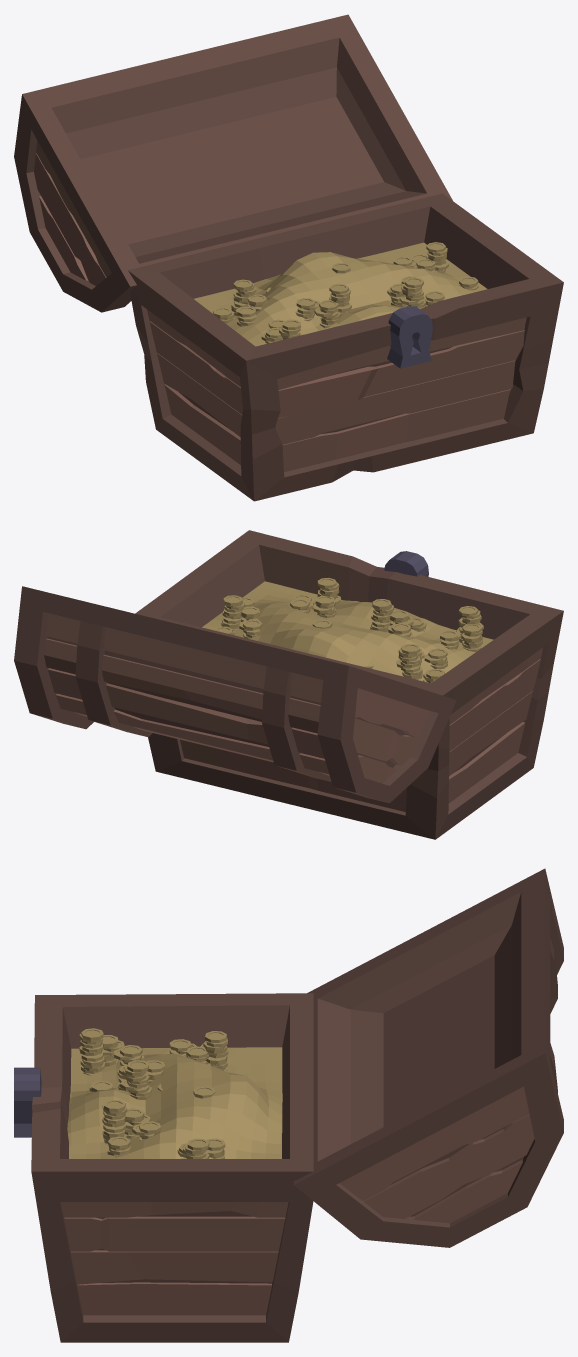
Rendered from Dungeon_Chest_Gold.glb.
3 renders of one model, top to bottom at view 1: azimuth 30°, elevation 25°; view 2: azimuth 150°, elevation 25°; view 3: azimuth 270°, elevation 25°, orthographic. The views are drawn at different scales.
Visible parts, largest first — view 1: Chest_Base; view 2: Chest_Base; view 3: Chest_Base.
Part boxes in pixels (left/top/right/bottom): Chest_Base: left=14, top=14, right=563, bottom=501; Chest_Base: left=14, top=530, right=563, bottom=839; Chest_Base: left=14, top=868, right=563, bottom=1342.
Bounding box in the file's own units: 1.18 × 0.8995 × 1.48.
